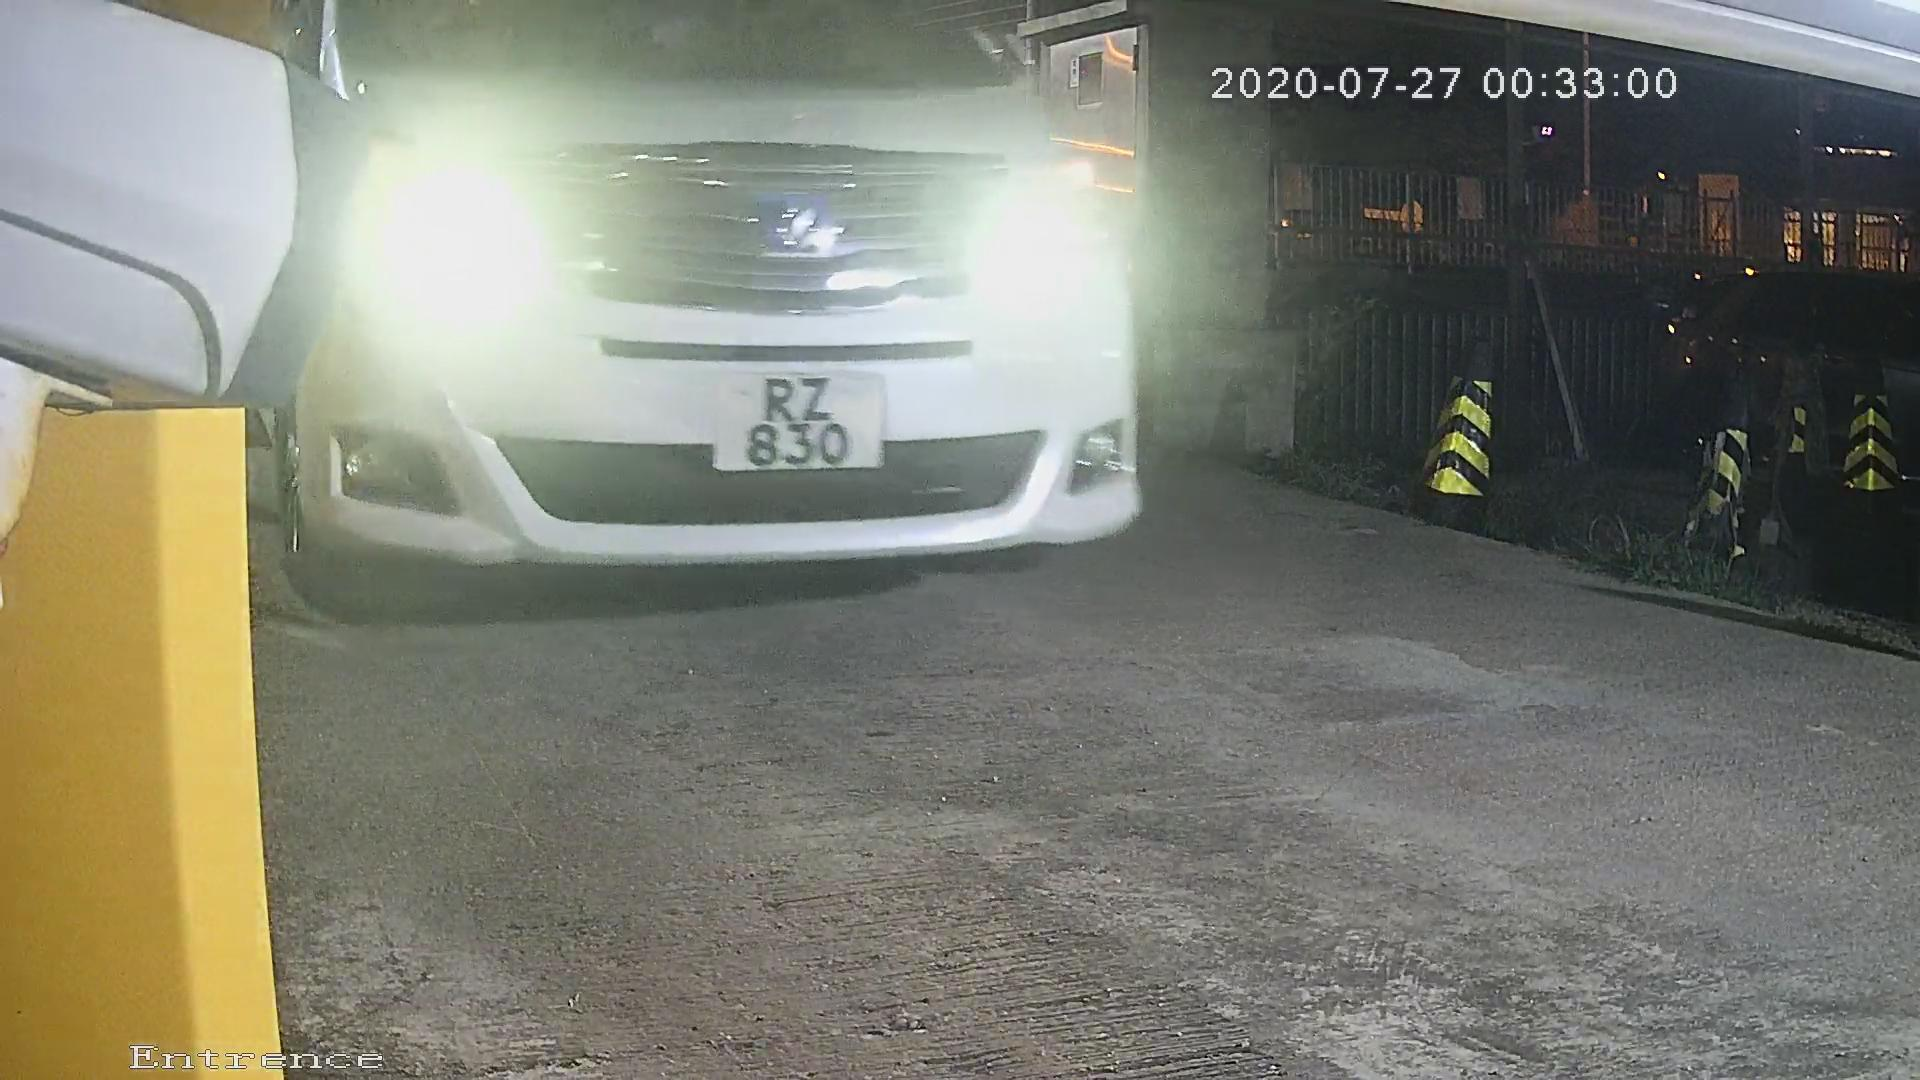Car: (78, 29, 1389, 719)
License Plate: (669, 338, 918, 497)
